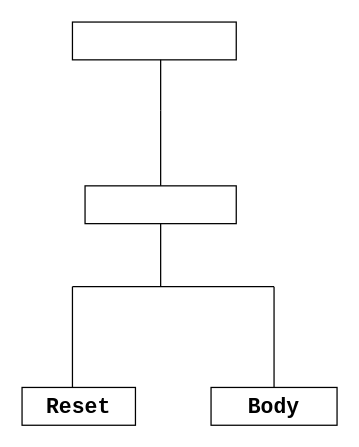
The diagram is 359 pixels wide and 447 high, and some of its shapes have lost their labels. Each missing label, with the centre of its shape:
"Document" goes at (x=153, y=40).
"Html" goes at (x=160, y=204).
